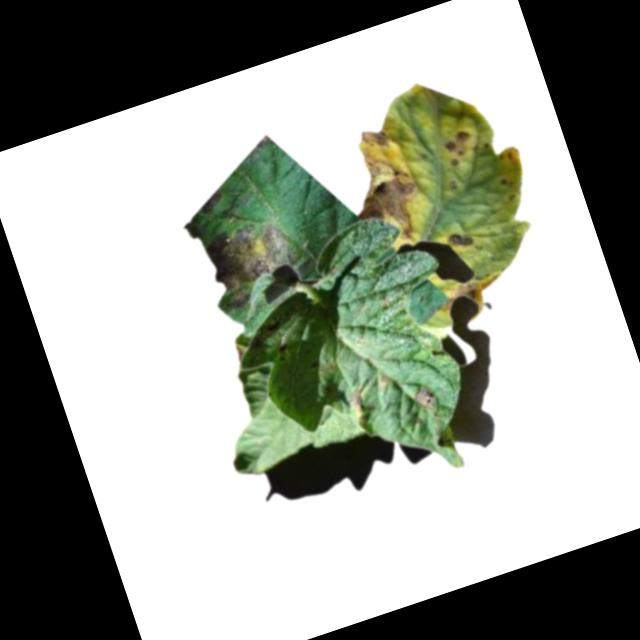Early_blight: (332, 120, 433, 252), (196, 212, 311, 312), (432, 273, 505, 318), (438, 127, 480, 170), (411, 381, 441, 415), (343, 388, 371, 421), (445, 226, 476, 253), (232, 345, 246, 365)
